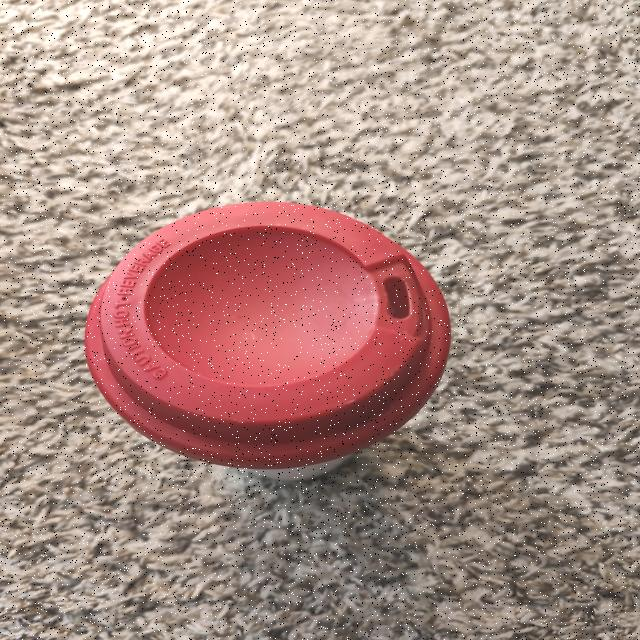mug: (78, 213, 434, 487)
